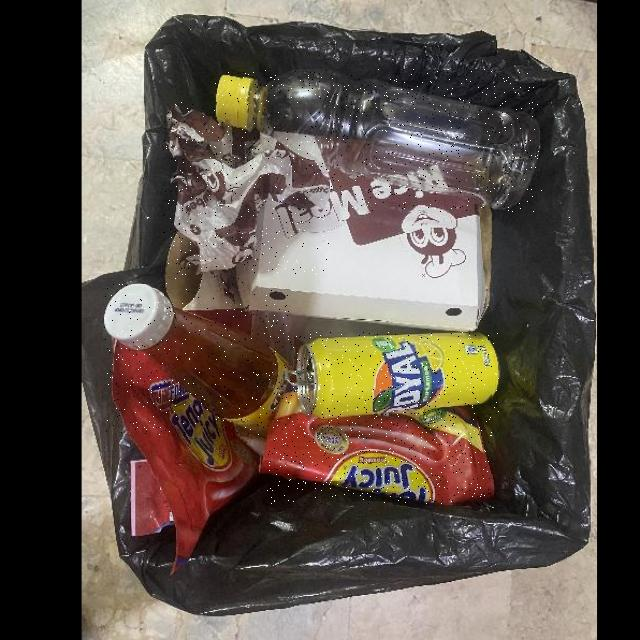glass: (104, 285, 291, 435)
metal: (286, 333, 499, 419)
paper: (164, 103, 330, 275), (165, 234, 247, 312)
plastic: (216, 70, 542, 212)
wrapper: (112, 339, 267, 574), (260, 391, 492, 504)
